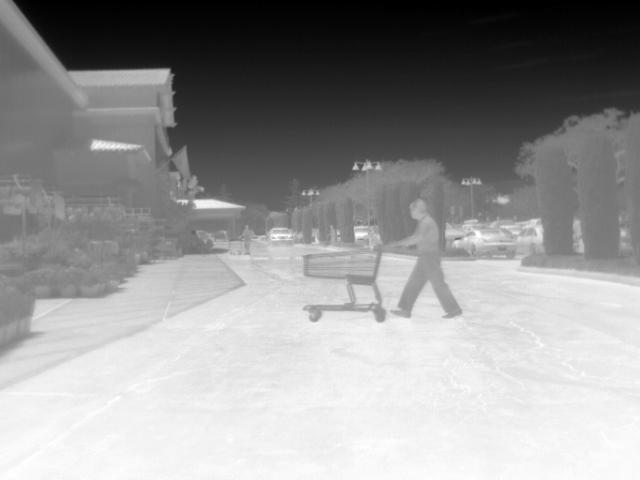car: (455, 228, 517, 259), (518, 223, 547, 256), (268, 226, 295, 246), (444, 222, 463, 244), (355, 225, 375, 244), (214, 231, 226, 240)
person: (381, 197, 463, 321), (241, 223, 253, 255), (328, 223, 338, 244)
